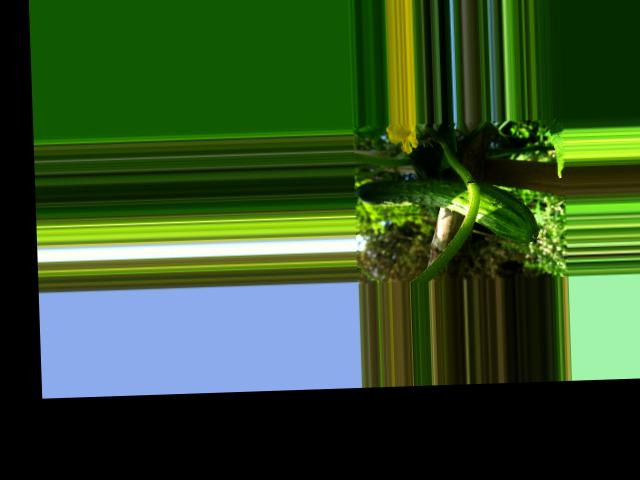cucumber: (354, 174, 538, 247)
